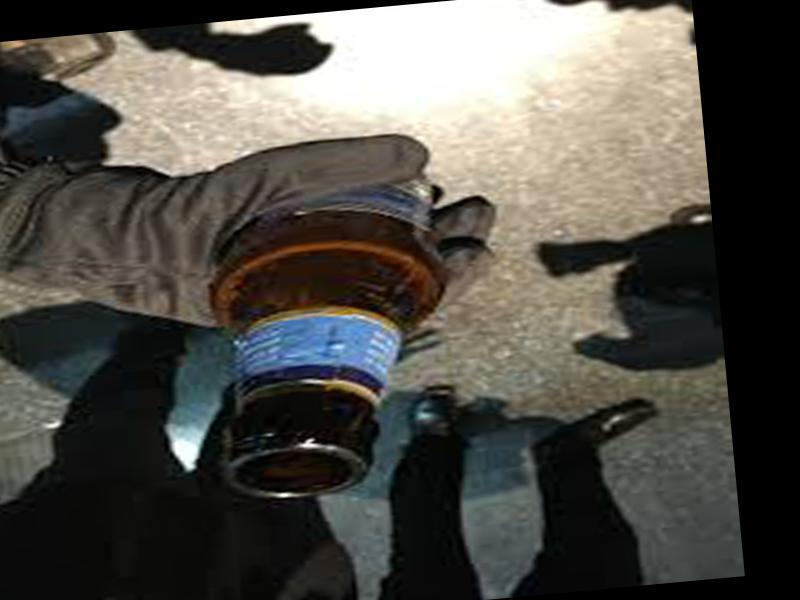Beer: (190, 149, 475, 505)
